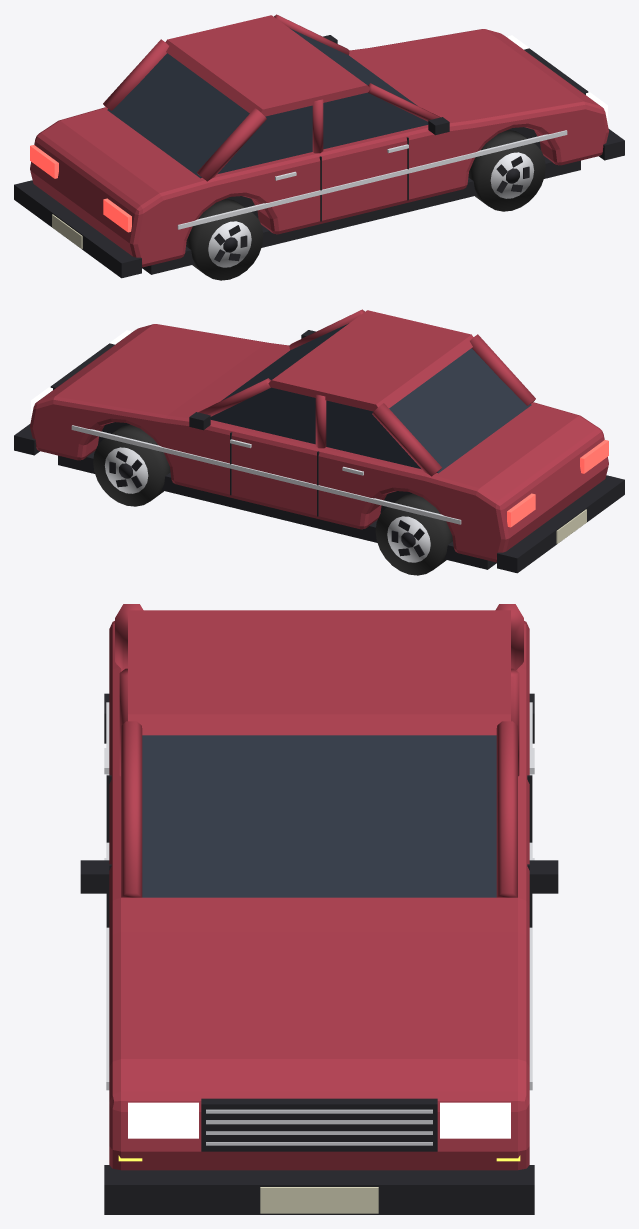
The model's file is car_0.glb.
3 views of the same model, one above another, from view 1: azimuth 30°, elevation 25°; view 2: azimuth 150°, elevation 25°; view 3: azimuth 270°, elevation 25° (orthographic). The views are drawn at different scales.
Parts seen in each view (by area): view 1: car_0; view 2: car_0; view 3: car_0.
Part boxes in pixels (box(x1,y1,x2,y2)): car_0: box(14, 14, 624, 280); car_0: box(14, 309, 624, 575); car_0: box(80, 604, 558, 1214).
Bounding box in the file's own units: 4.94 × 1.49 × 2.02.
